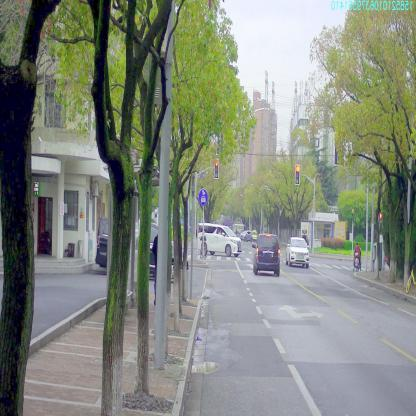traffic-light: (295, 165, 300, 184), (214, 159, 219, 178)
